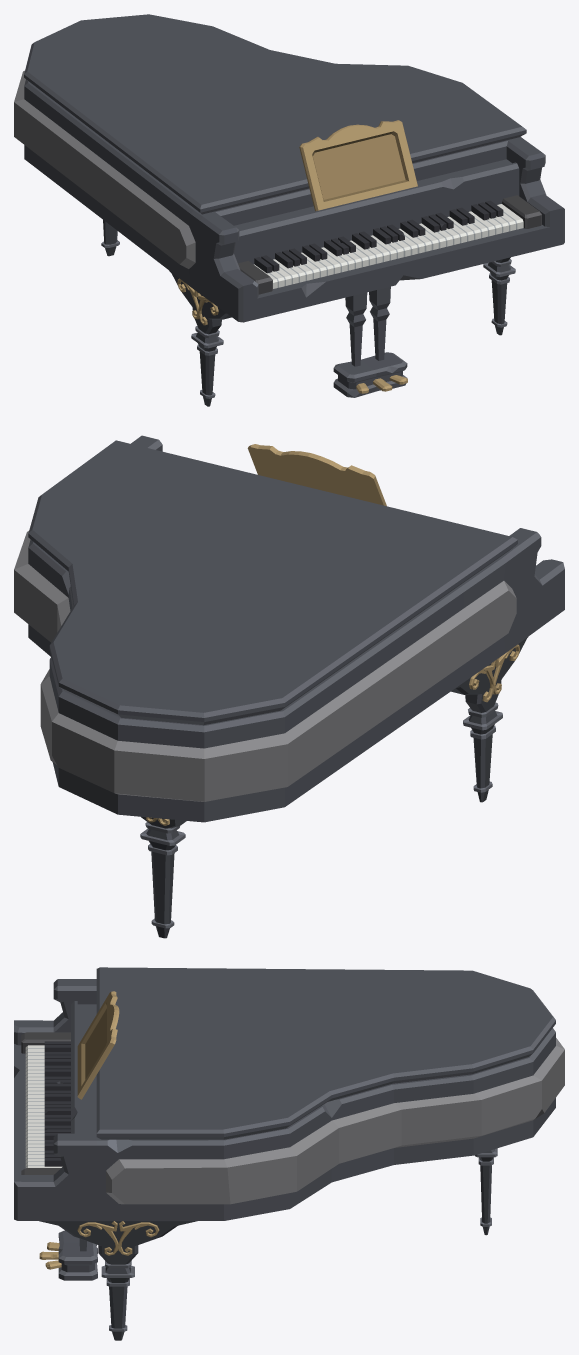
File: WF_LP_HT_Props_Piano.001.fbx
3 renders of one model, top to bottom at view 1: azimuth 30°, elevation 25°; view 2: azimuth 150°, elevation 25°; view 3: azimuth 270°, elevation 25°, orthographic. The views are drawn at different scales.
Parts seen in each view (by area): view 1: WF_LP_HT_Props_Piano.001; view 2: WF_LP_HT_Props_Piano.001; view 3: WF_LP_HT_Props_Piano.001.
Boxes of the visible parts, x1,y1,x2,y2 form: WF_LP_HT_Props_Piano.001: (14, 14, 564, 406); WF_LP_HT_Props_Piano.001: (14, 435, 564, 938); WF_LP_HT_Props_Piano.001: (14, 967, 564, 1340).
Bounding box in the file's own units: 1.82 × 1.25 × 2.45.
